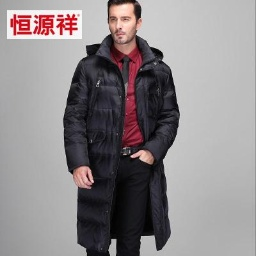face: (104, 1, 144, 47)
